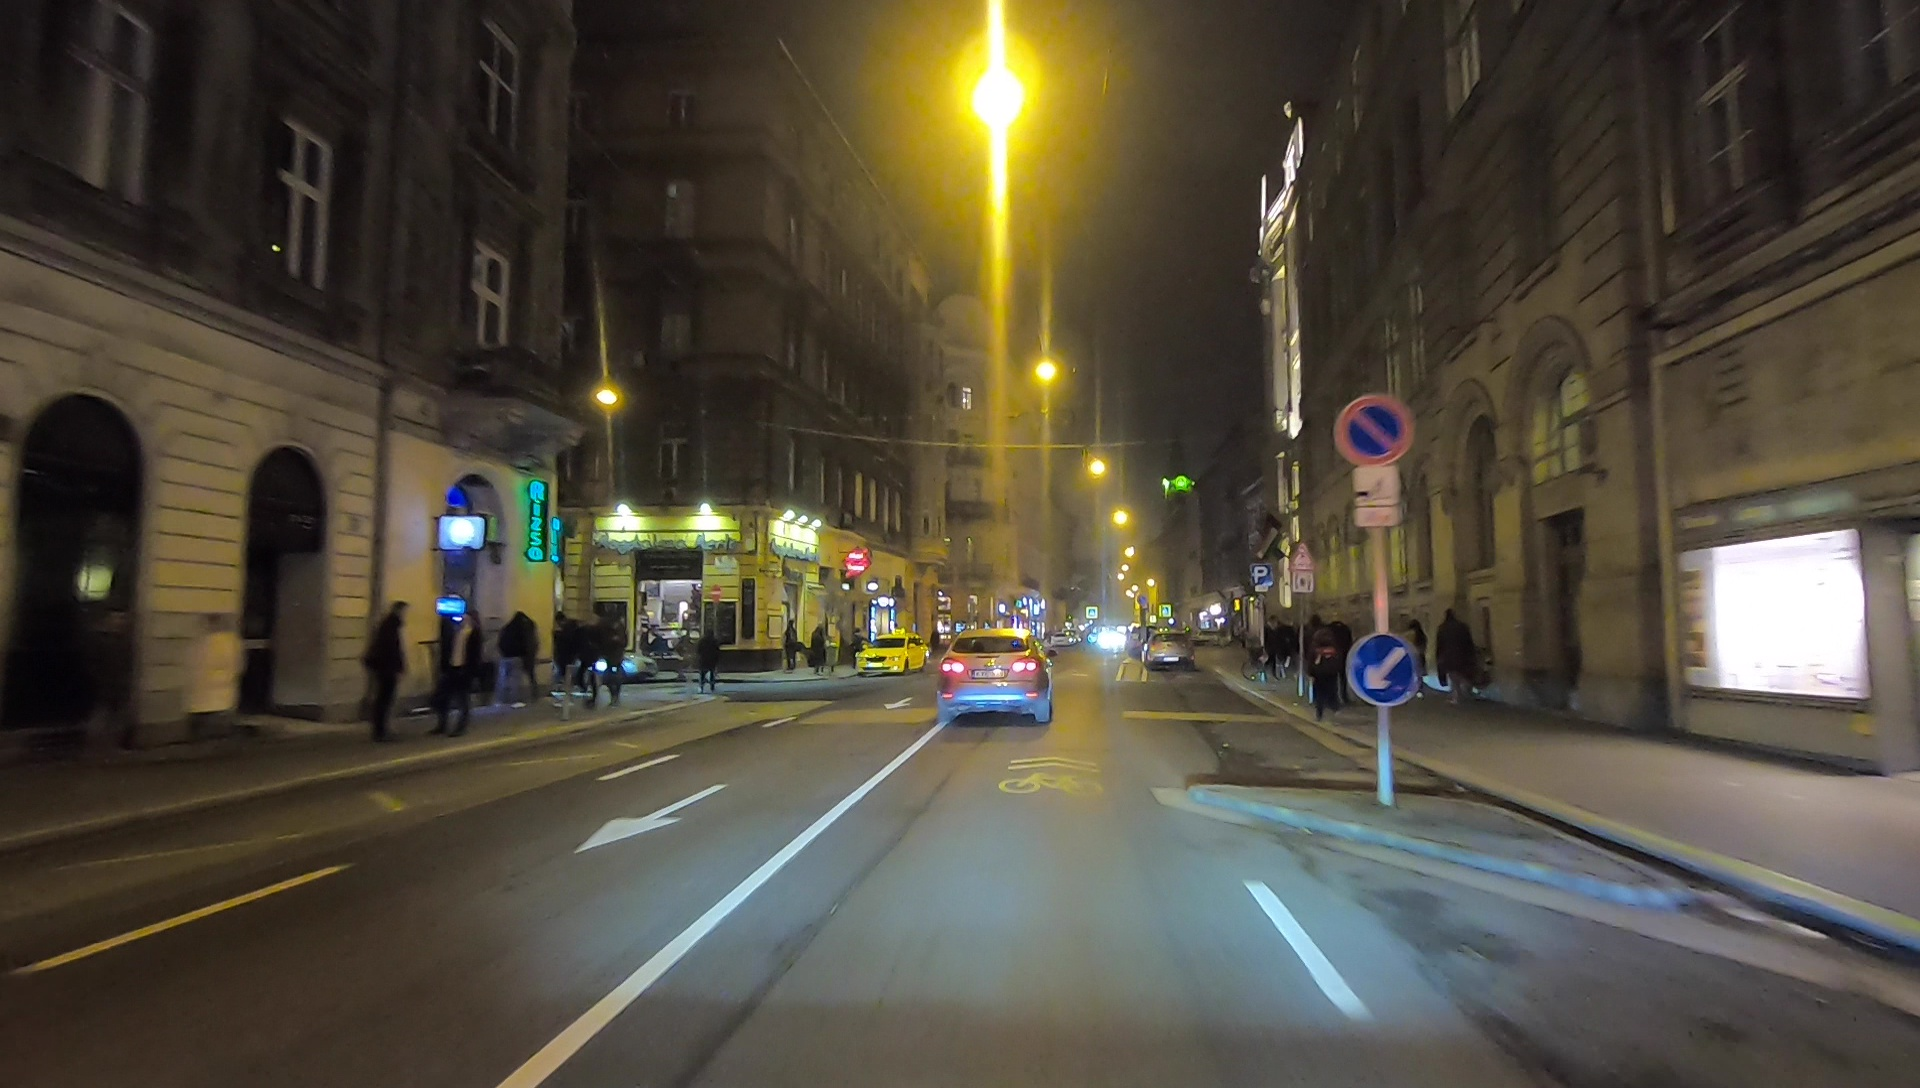person: (88, 606, 138, 767), (193, 617, 241, 752), (438, 604, 482, 737), (371, 591, 406, 743), (1439, 615, 1477, 702), (552, 611, 580, 711), (1309, 628, 1336, 719), (601, 611, 626, 706), (501, 610, 526, 704), (1404, 622, 1427, 689), (697, 631, 719, 695), (583, 612, 595, 700), (1269, 616, 1287, 673), (783, 612, 797, 669), (811, 620, 826, 670)
